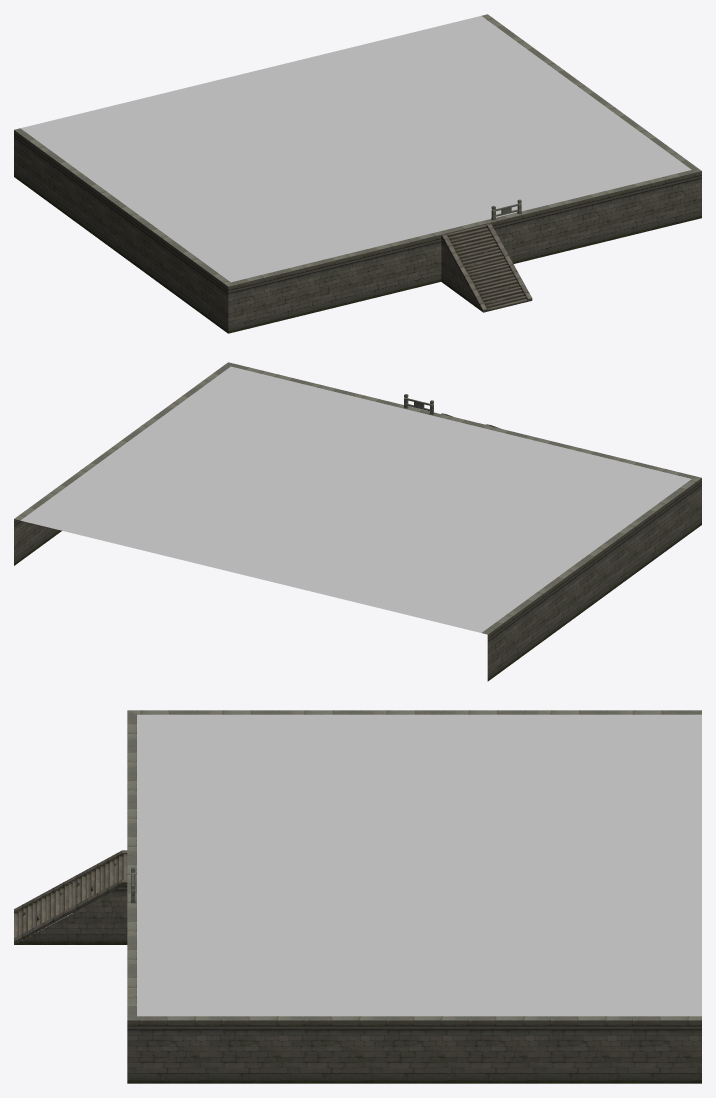
The model's file is s7_3d_taijie.FBX.
3 renders of one model, top to bottom at view 1: azimuth 30°, elevation 25°; view 2: azimuth 150°, elevation 25°; view 3: azimuth 270°, elevation 25°, orthographic. The views are drawn at different scales.
Visible parts, largest first — view 1: Group001, Rectangle014, DrawCall_0045, Line001; view 2: Group001, Rectangle014; view 3: Group001, Rectangle014, DrawCall_0045, Line001.
Part boxes in pixels (x1,y1,x2,y2): Group001: (20, 16, 691, 282); Rectangle014: (14, 14, 701, 333); DrawCall_0045: (441, 223, 532, 312); Line001: (441, 238, 482, 311); Group001: (21, 366, 691, 632); Rectangle014: (14, 362, 701, 681); Group001: (137, 714, 701, 1016); Rectangle014: (127, 710, 701, 1083); DrawCall_0045: (14, 850, 127, 944); Line001: (14, 885, 127, 944).
Size of the model in its own units: 9476 by 1150 by 8884.
